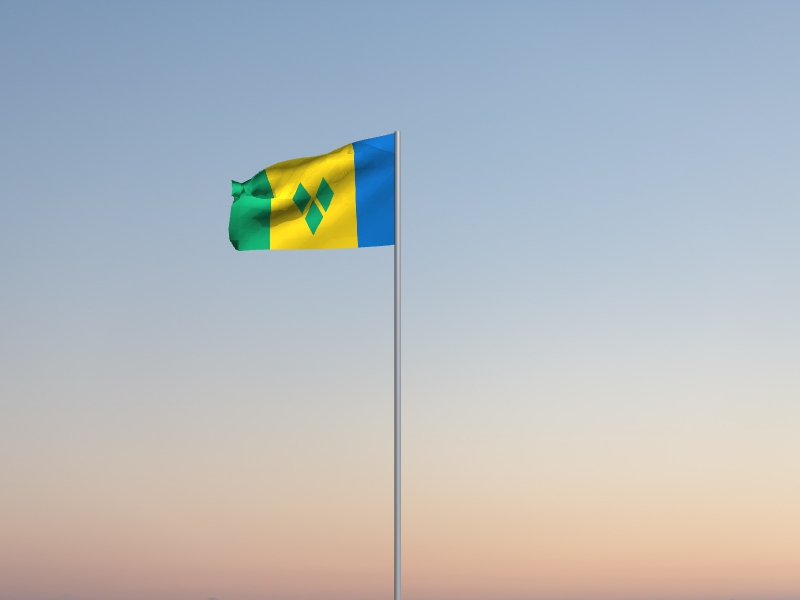vc: (228, 134, 394, 253)
